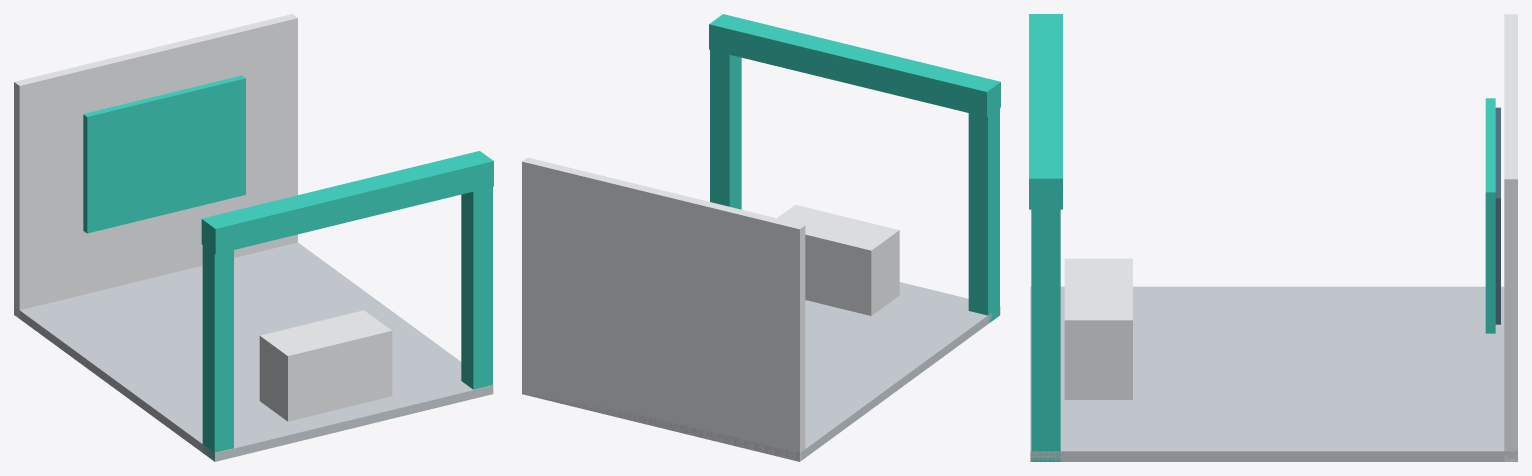
3 views of the same model, side by side, from view 1: azimuth 30°, elevation 25°; view 2: azimuth 150°, elevation 25°; view 3: azimuth 270°, elevation 25° (orthographic). The views are drawn at different scales.
Visible parts, largest first — view 1: Exhibition Booth Concept; view 2: Exhibition Booth Concept; view 3: Exhibition Booth Concept.
Boxes of the visible parts, box(x1,y1,x2,y2) form: Exhibition Booth Concept: box(14, 14, 493, 461); Exhibition Booth Concept: box(522, 14, 1000, 461); Exhibition Booth Concept: box(1029, 14, 1517, 461).
Size of the model in its own units: 4 by 3.2 by 5.02.
